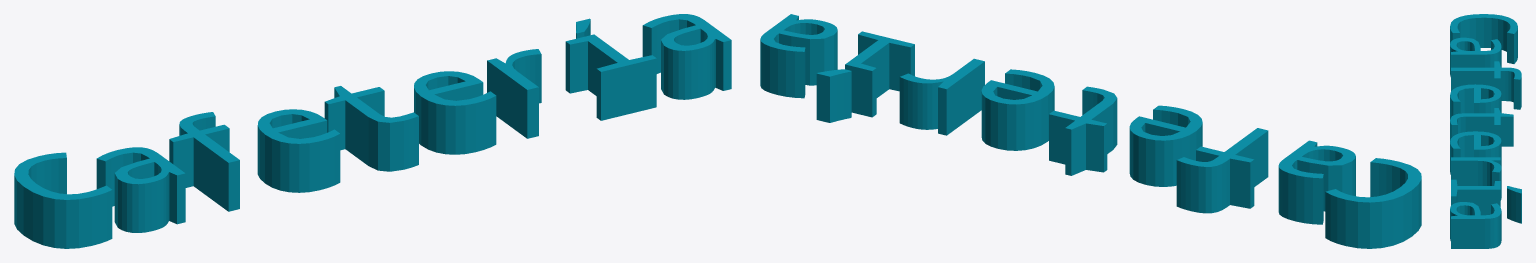
Rendered from cafeteria2-texto.glb.
3 renders of one model, left to right at view 1: azimuth 30°, elevation 25°; view 2: azimuth 150°, elevation 25°; view 3: azimuth 270°, elevation 25°, orthographic. The views are drawn at different scales.
Parts seen in each view (by area): view 1: Mesh_Mesh_head_geo.001_lambert2SG.001; view 2: Mesh_Mesh_head_geo.001_lambert2SG.001; view 3: Mesh_Mesh_head_geo.001_lambert2SG.001.
Boxes of the visible parts, x1,y1,x2,y2 form: Mesh_Mesh_head_geo.001_lambert2SG.001: [14, 14, 731, 248]; Mesh_Mesh_head_geo.001_lambert2SG.001: [760, 14, 1421, 248]; Mesh_Mesh_head_geo.001_lambert2SG.001: [1450, 14, 1521, 248].
Bounding box in the file's own units: 146 × 10 × 21.56.
